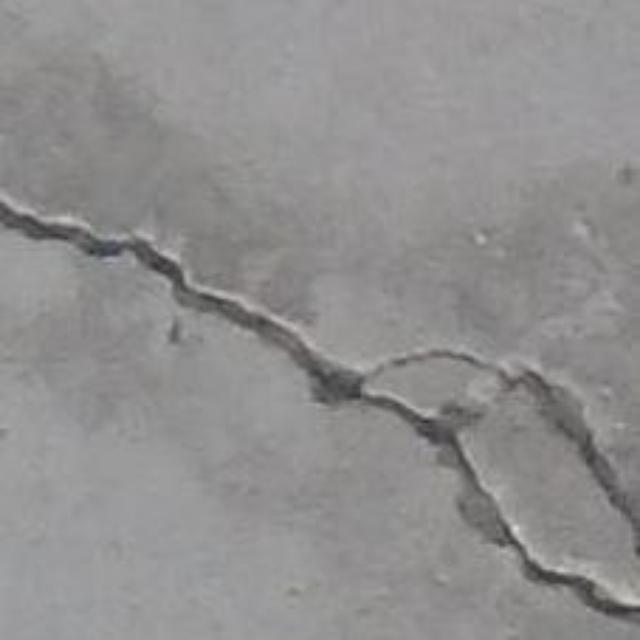crack: (0, 198, 639, 625)
